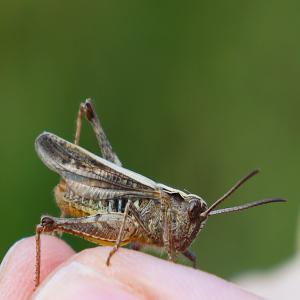locust: (36, 70, 292, 268)
